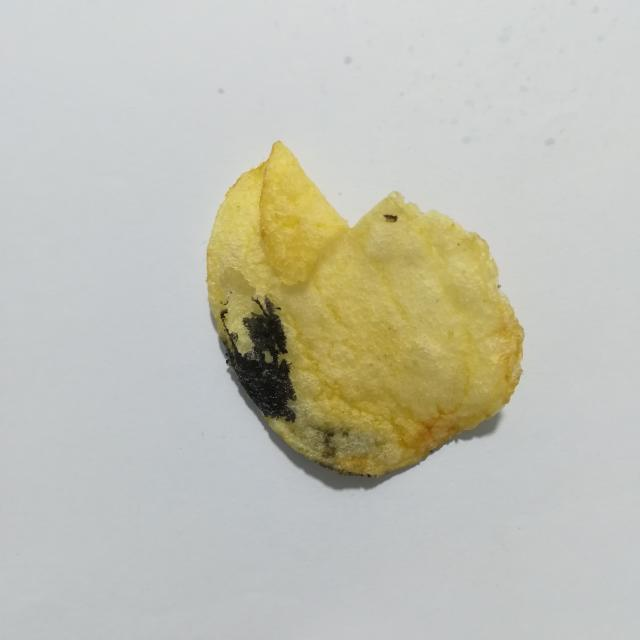chip: (207, 142, 524, 476)
damaged: (220, 297, 295, 422), (383, 214, 398, 222)
semi-damaged: (295, 401, 374, 459)
